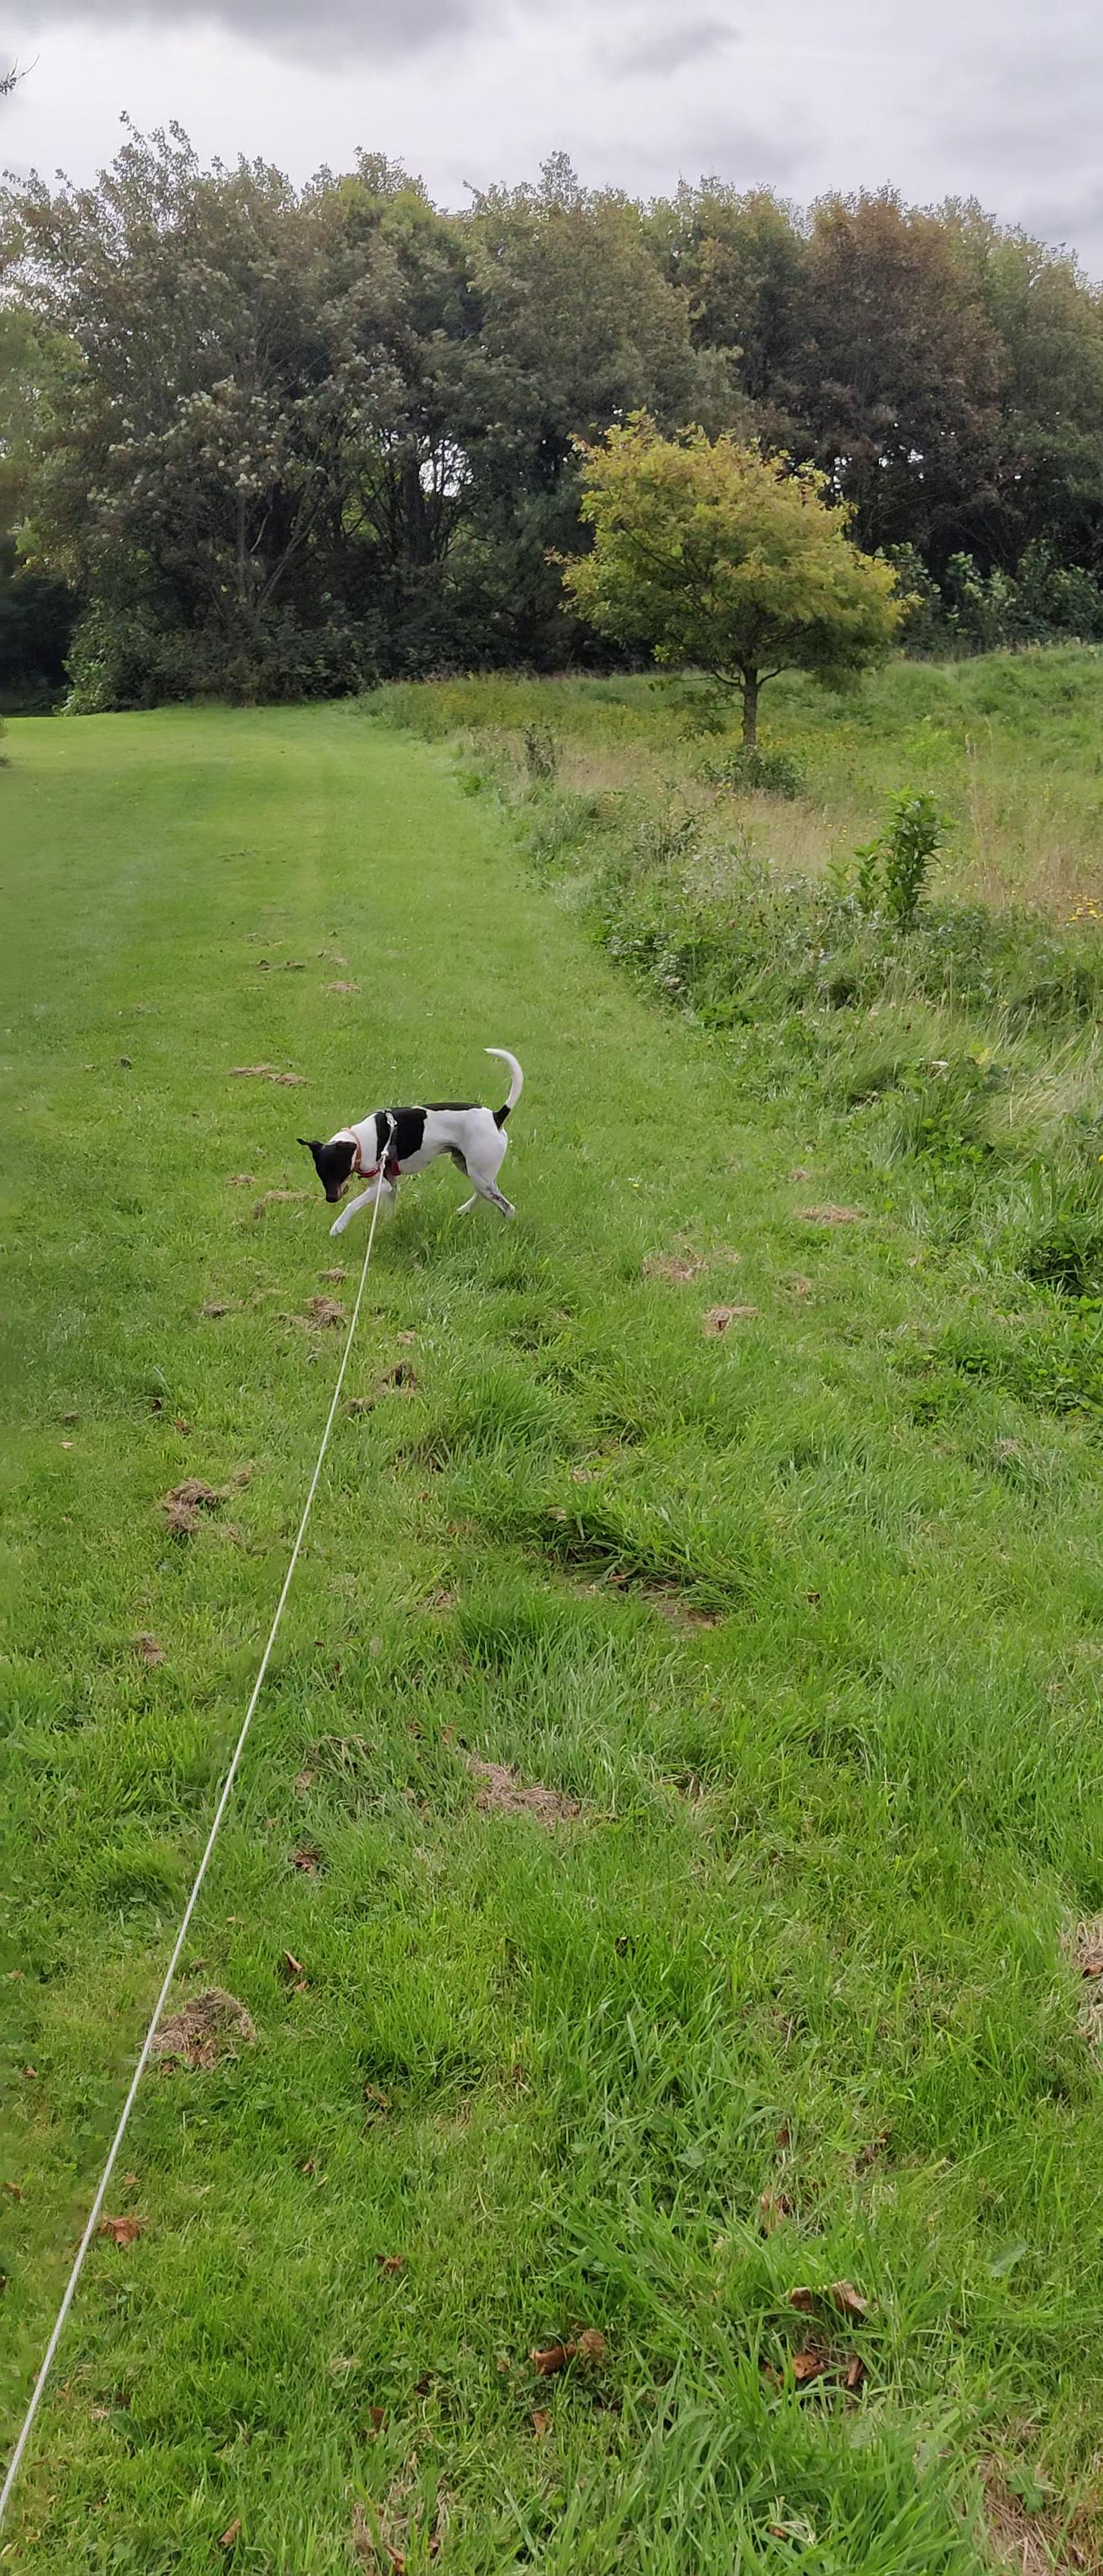Dog: (296, 1040, 529, 1237)
